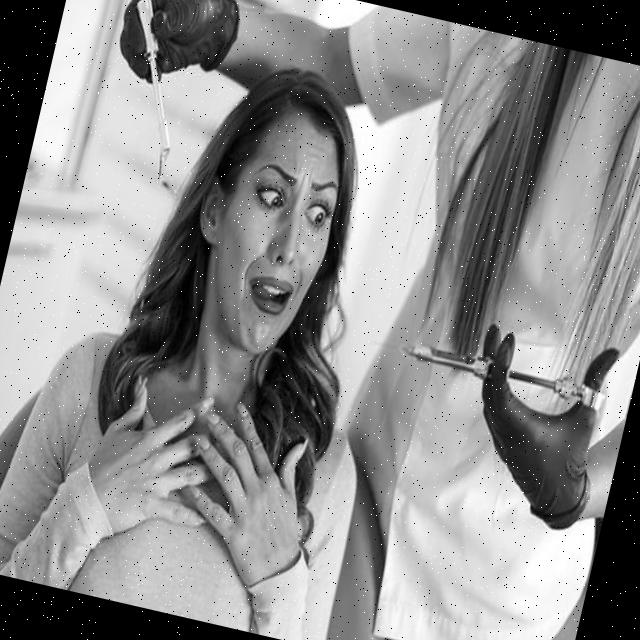Fear: (196, 108, 354, 366)
